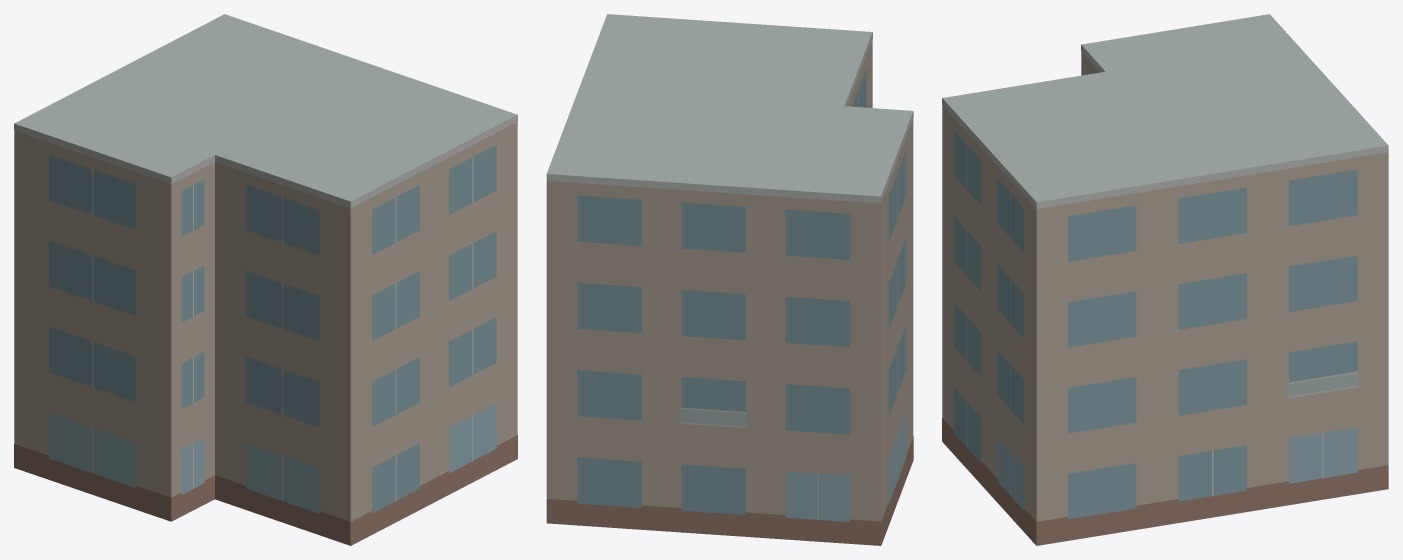
Rendered from residential-5bbb92ad-d0ee-4ead-9ab7-a470f094dfa7.glb.
3 views of the same model, side by side, from view 1: azimuth 30°, elevation 25°; view 2: azimuth 150°, elevation 25°; view 3: azimuth 270°, elevation 25° (orthographic).
Visible parts, largest first — view 1: residential-5bbb92ad-d0ee-4ead-9ab7-a470f094dfa7.tmp; view 2: residential-5bbb92ad-d0ee-4ead-9ab7-a470f094dfa7.tmp; view 3: residential-5bbb92ad-d0ee-4ead-9ab7-a470f094dfa7.tmp.
Boxes of the visible parts, x1,y1,x2,y2 form: residential-5bbb92ad-d0ee-4ead-9ab7-a470f094dfa7.tmp: (14, 14, 517, 545); residential-5bbb92ad-d0ee-4ead-9ab7-a470f094dfa7.tmp: (546, 14, 913, 545); residential-5bbb92ad-d0ee-4ead-9ab7-a470f094dfa7.tmp: (942, 14, 1388, 545).
Size of the model in its own units: 14.35 by 12.2 by 14.38.
